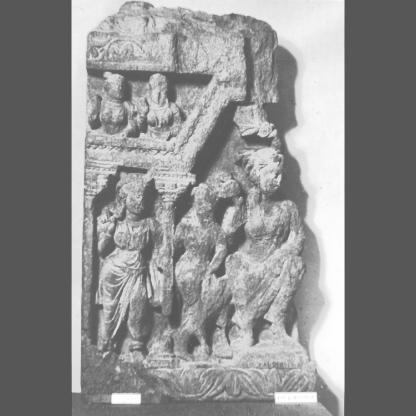buddha-sitting: (122, 73, 182, 151), (86, 72, 139, 150)
buddha-standing: (225, 148, 309, 368)
